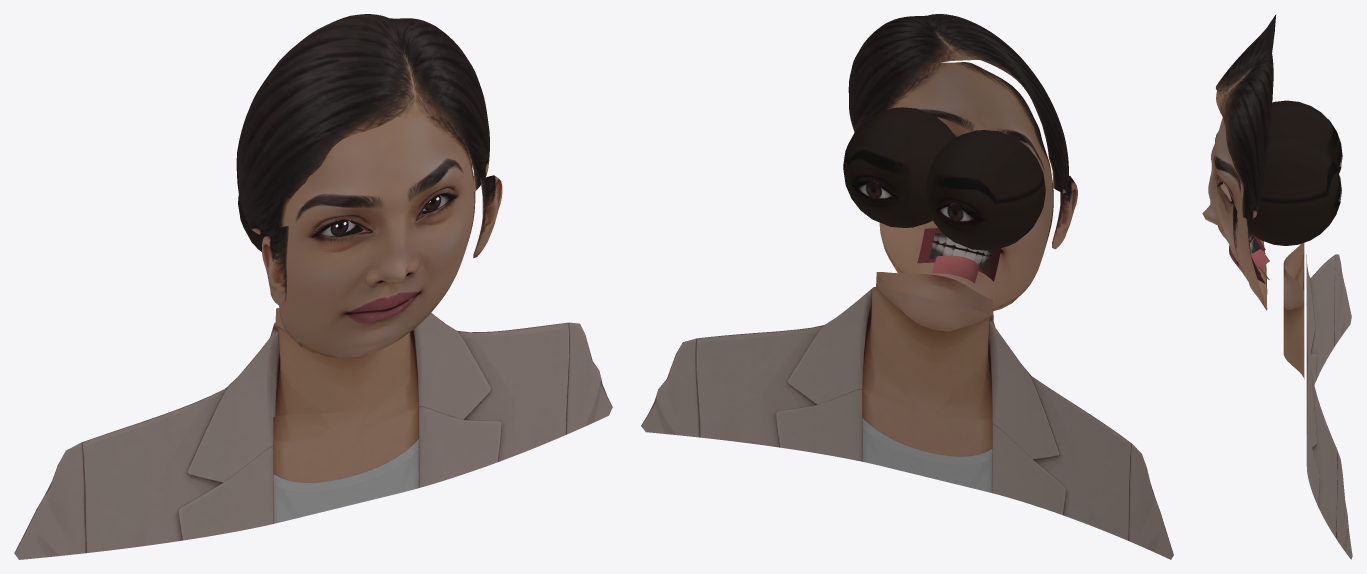
The model's file is tara.glb.
3 views of the same model, side by side, from view 1: azimuth 30°, elevation 25°; view 2: azimuth 150°, elevation 25°; view 3: azimuth 270°, elevation 25° (orthographic). The views are drawn at different scales.
Visible parts, largest first — view 1: Body, Head, Hair, Neck, Ears, Eye_L; view 2: Body, Head, Eye_L, Hair, Eye_R, Neck, Ears, Tongue, Cavity; view 3: Body, Eye_R, Hair, Head, Neck, Eye_L, Tongue, Ears.
Part boxes in pixels (x1,y1,x2,y2): Body: [14, 298, 612, 559]; Head: [279, 115, 475, 357]; Hair: [236, 14, 489, 235]; Neck: [271, 308, 411, 417]; Ears: [261, 175, 502, 305]; Eye_L: [238, 195, 363, 251]; Body: [641, 287, 1173, 559]; Head: [879, 62, 1053, 310]; Eye_L: [925, 130, 1045, 250]; Hair: [848, 14, 1068, 193]; Eye_R: [843, 107, 955, 227]; Neck: [876, 272, 993, 320]; Ears: [1052, 175, 1077, 249]; Tongue: [932, 255, 979, 283]; Cavity: [917, 228, 1001, 281]; Body: [1306, 254, 1352, 559]; Eye_R: [1231, 135, 1341, 245]; Hair: [1216, 14, 1276, 219]; Head: [1202, 117, 1267, 310]; Neck: [1283, 243, 1304, 379]; Eye_L: [1270, 100, 1342, 173]; Tongue: [1251, 249, 1269, 279]; Ears: [1232, 203, 1244, 272].
Size of the model in its own units: 2.43 by 1.97 by 0.6458.
7 materials, 4 textured.
